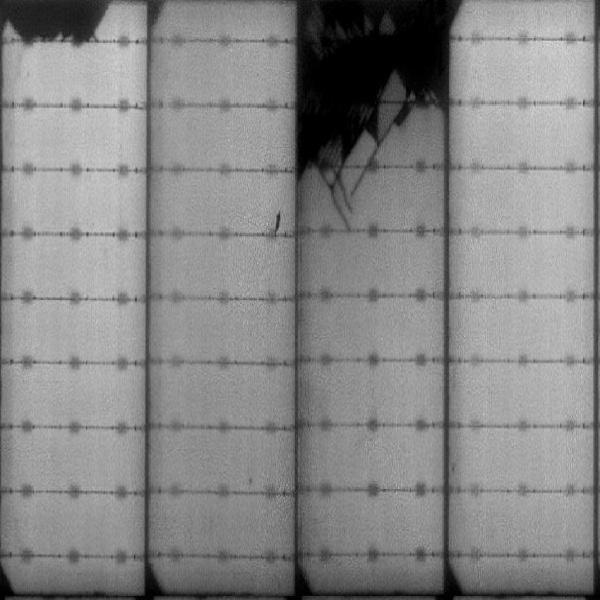broken: (297, 1, 447, 232), (1, 1, 116, 44)
